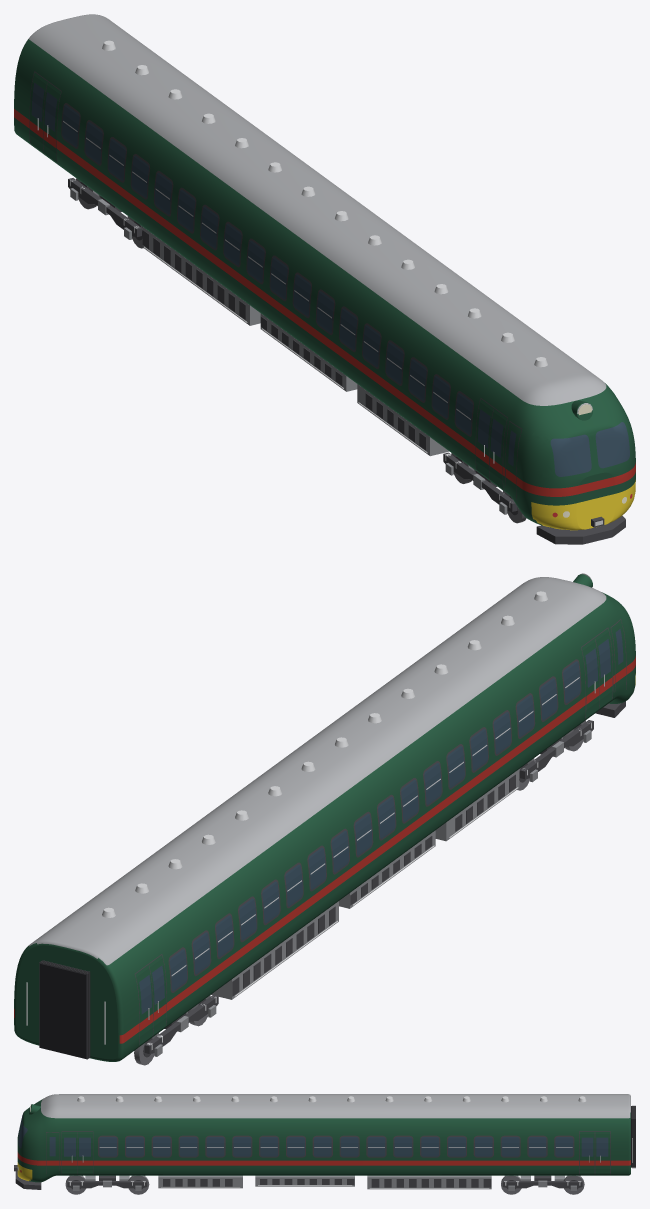
File: 330_close.fbx
3 renders of one model, top to bottom at view 1: azimuth 30°, elevation 25°; view 2: azimuth 150°, elevation 25°; view 3: azimuth 270°, elevation 25°, orthographic. The views are drawn at different scales.
Parts seen in each view (by area): view 1: 330_close; view 2: 330_close; view 3: 330_close.
Part boxes in pixels (left/top/right/bottom): 330_close: left=14, top=14, right=635, bottom=544; 330_close: left=14, top=573, right=635, bottom=1065; 330_close: left=14, top=1094, right=635, bottom=1194.
Size of the model in its own units: 3 by 3.91 by 25.
